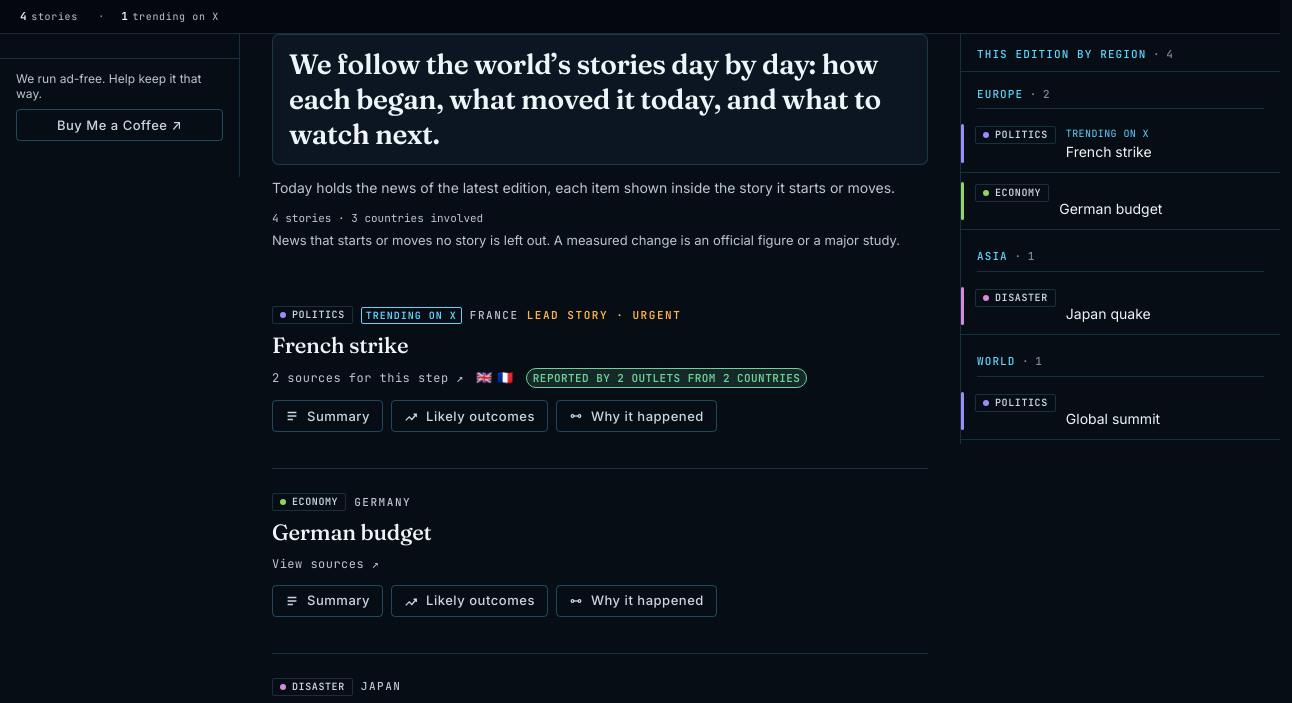
Test: /today topics › source and outlet counts come from the topic; the panel lists the links and toggles
The image size is (1292, 703).
What coordinates should you click on to do the following:
click the button "2 sources for this step ↗"
I would click on:
 (368, 378)
Its box is [272, 370, 464, 386].
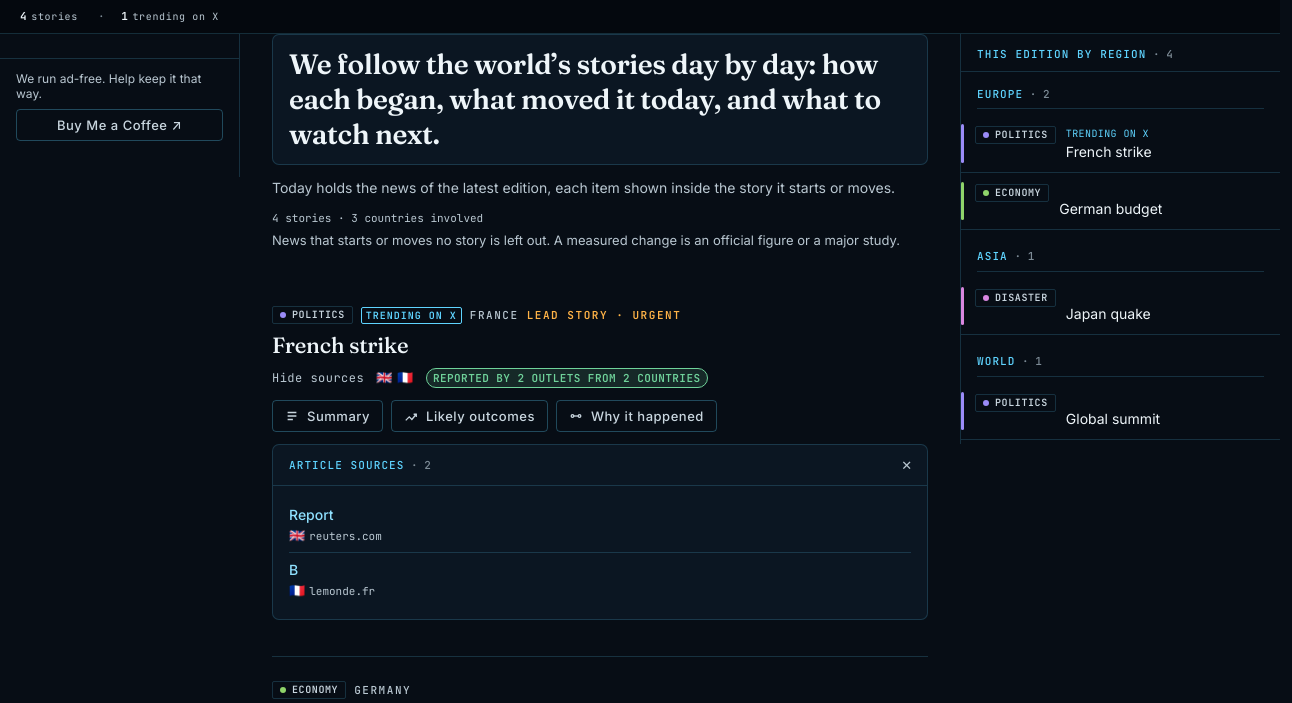
What coordinates should you click on to do the following:
click the button "Hide sources"
I would click on:
 (318, 378)
Its box is [272, 370, 364, 386].
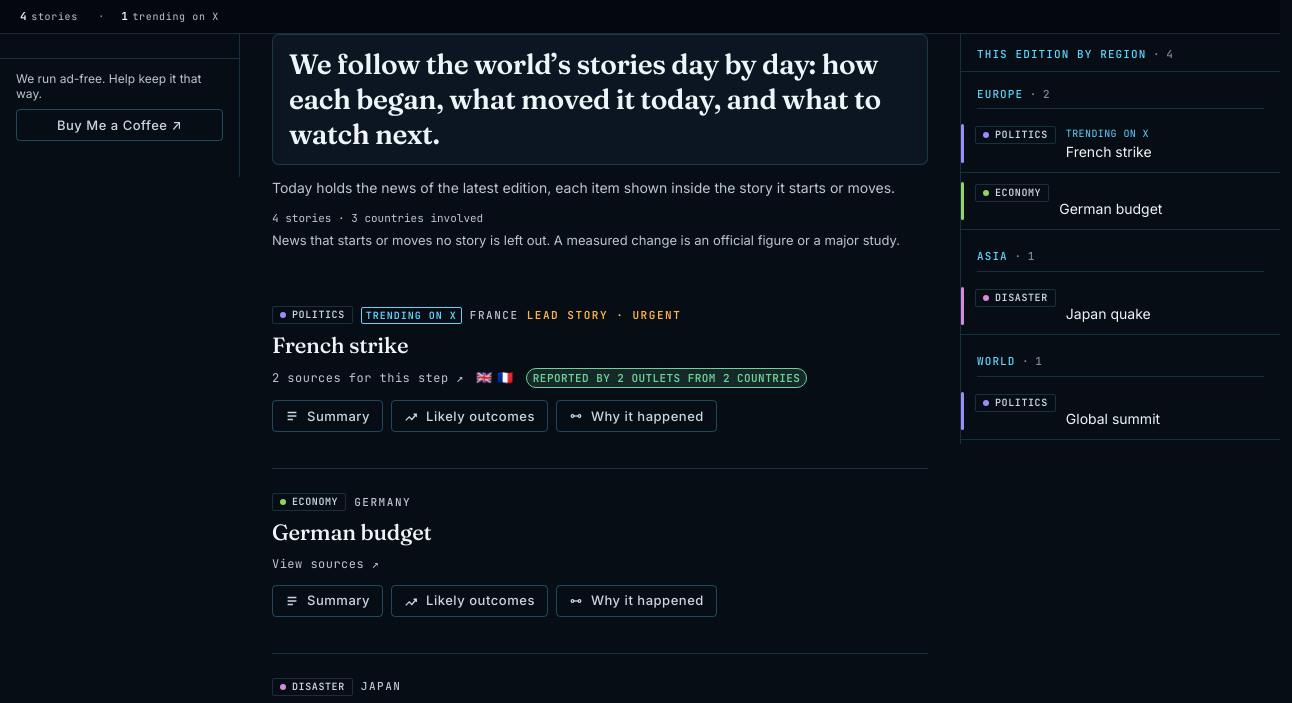
Check: the element with class "home-sources-panel" is gone
